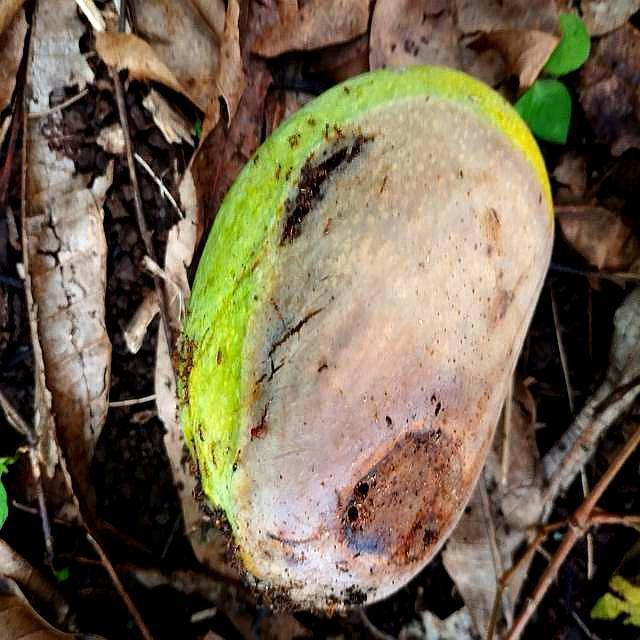Biodegradable: (191, 65, 561, 613)
